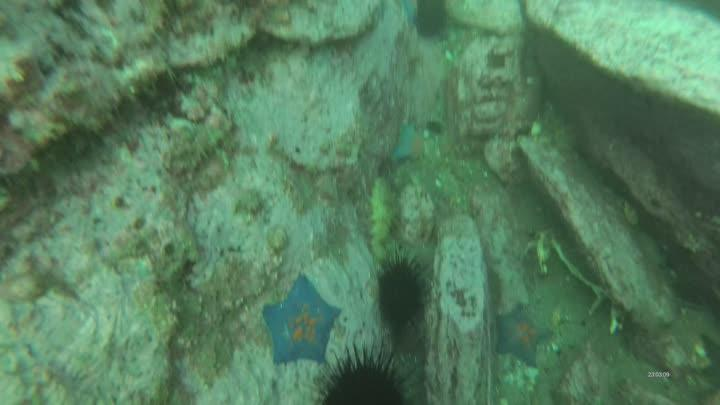urchin: (317, 342, 411, 402), (376, 256, 433, 330), (416, 1, 454, 42)
